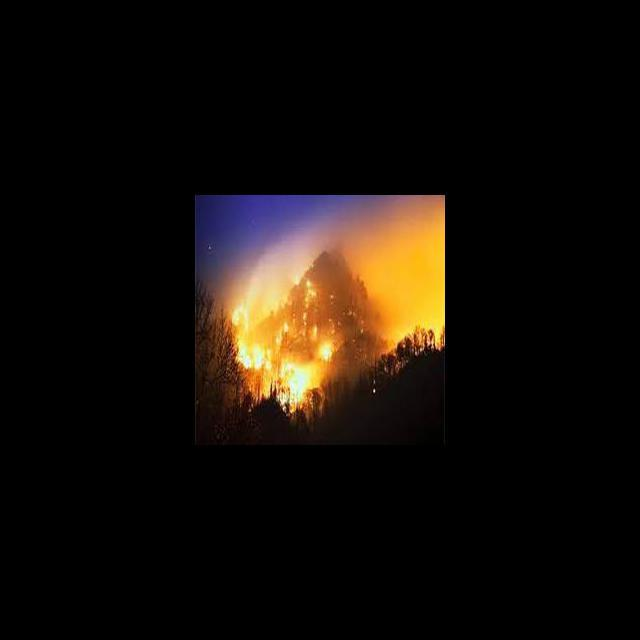Fire: (230, 254, 346, 418)
